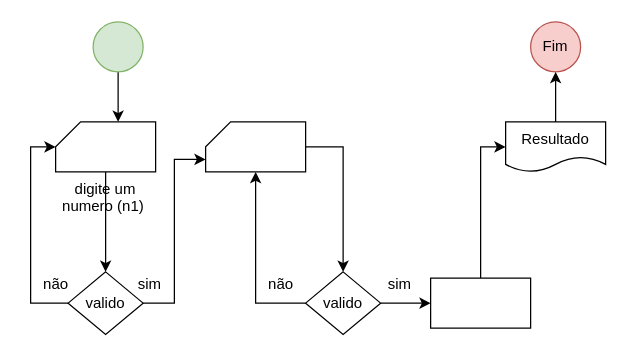
Some shapes in this 628 by 356 pixel diagram are drawn without their labels. The box of each missing label's shape, as (x1, y1, x2, y2) in pixels:
inicio: (92, 21, 143, 72)
n1 + n2: (429, 277, 531, 328)
